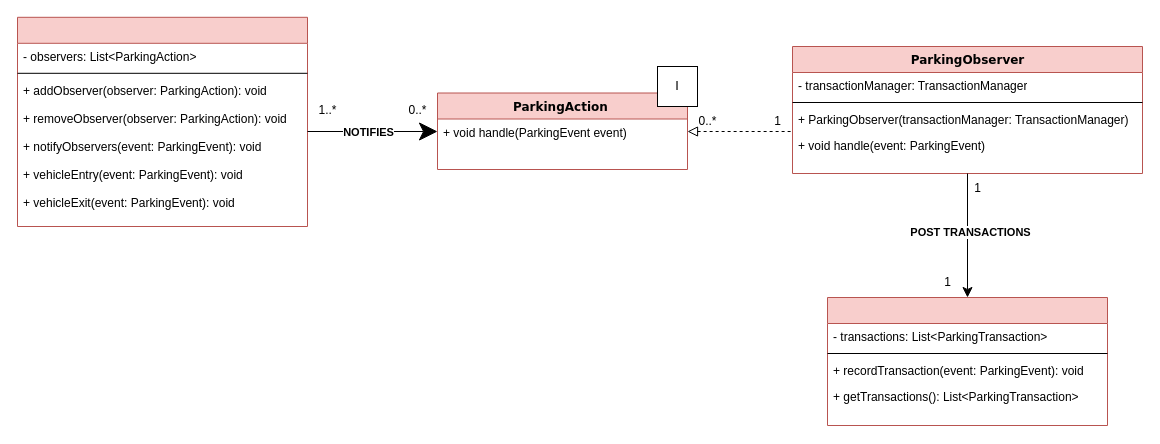
This 1160x444 diagram has some shape labels left out. Each missing label, with the box of its shape:
ParkingLot: (16, 16, 308, 226)
TransactionManager: (826, 296, 1108, 426)
